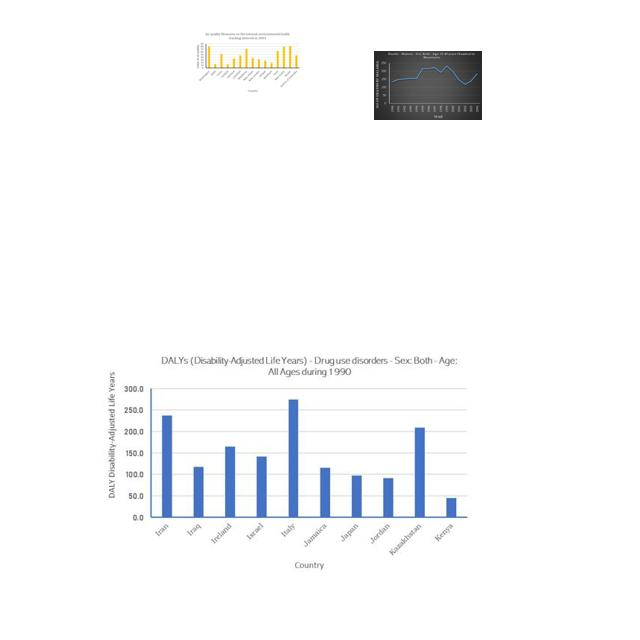Graph: (103, 351, 474, 574), (374, 51, 482, 120), (193, 30, 301, 93)
